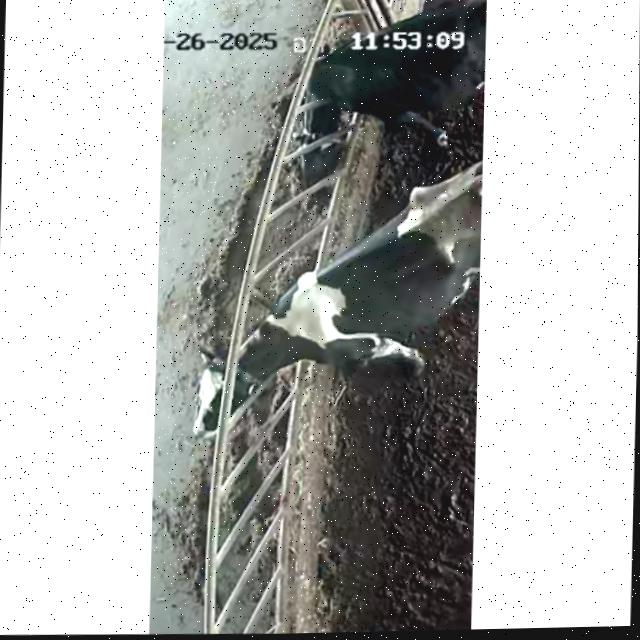eat: (175, 259, 374, 460), (260, 18, 424, 150)
